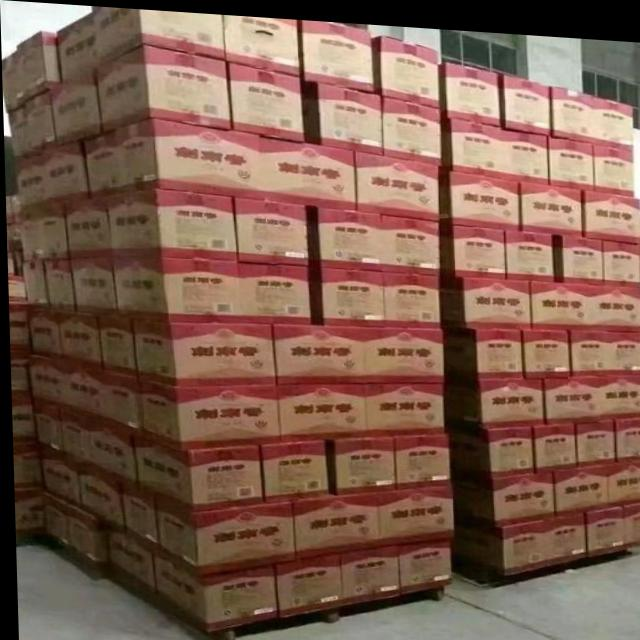box: (92, 42, 232, 132), (117, 118, 265, 198), (152, 492, 292, 574), (131, 427, 261, 509), (151, 549, 275, 631), (137, 375, 279, 446), (129, 317, 273, 384), (103, 187, 237, 258), (111, 256, 243, 320), (92, 7, 225, 64), (259, 133, 355, 206), (289, 486, 378, 557), (228, 60, 305, 138), (354, 146, 438, 216), (271, 320, 365, 381), (275, 379, 365, 440), (301, 16, 374, 88), (232, 194, 309, 261), (372, 479, 452, 542), (371, 29, 438, 103), (438, 166, 519, 224), (360, 322, 442, 379), (221, 12, 298, 72), (318, 77, 382, 149), (271, 550, 340, 615), (256, 437, 327, 500), (365, 377, 442, 433), (239, 259, 309, 320), (315, 203, 381, 267), (381, 90, 440, 158), (48, 69, 100, 146), (439, 55, 501, 119), (440, 111, 503, 173), (331, 431, 395, 492), (319, 263, 383, 323), (336, 539, 397, 601), (437, 219, 505, 272), (490, 464, 553, 521), (519, 174, 582, 230), (391, 426, 450, 484), (381, 210, 438, 269), (528, 272, 593, 323), (57, 194, 109, 257), (477, 372, 541, 423), (382, 267, 440, 323), (16, 30, 63, 99), (76, 459, 121, 531), (394, 532, 449, 590), (581, 182, 640, 236), (463, 272, 530, 319), (104, 523, 152, 588), (499, 66, 550, 127), (41, 137, 89, 201), (87, 412, 131, 481), (465, 318, 521, 372), (540, 367, 600, 416), (81, 128, 123, 196), (500, 121, 549, 179), (552, 456, 606, 508), (502, 222, 554, 276), (497, 511, 545, 569), (549, 77, 597, 135), (545, 128, 594, 184), (57, 12, 96, 81), (518, 320, 569, 372), (69, 256, 115, 312), (483, 419, 532, 471), (579, 495, 625, 550), (539, 504, 584, 560), (57, 310, 101, 367), (118, 476, 153, 547), (65, 499, 102, 566), (36, 444, 78, 503), (589, 276, 640, 324), (95, 313, 135, 374), (99, 368, 138, 427), (530, 414, 574, 465), (593, 136, 635, 189), (61, 359, 101, 414), (11, 150, 48, 209), (594, 89, 635, 142), (561, 227, 602, 277), (567, 322, 609, 370), (24, 91, 56, 152), (37, 198, 69, 259), (598, 366, 640, 412), (573, 411, 613, 459), (600, 232, 640, 280), (55, 402, 88, 460), (25, 355, 62, 402), (42, 257, 74, 310), (28, 308, 59, 358), (605, 452, 640, 496), (606, 322, 640, 367), (1, 51, 25, 114), (30, 398, 59, 450), (41, 489, 67, 545), (612, 407, 640, 456), (7, 102, 30, 160), (19, 204, 42, 262), (24, 259, 49, 309), (7, 301, 29, 351), (8, 350, 30, 398), (619, 492, 640, 541), (7, 276, 25, 302)
